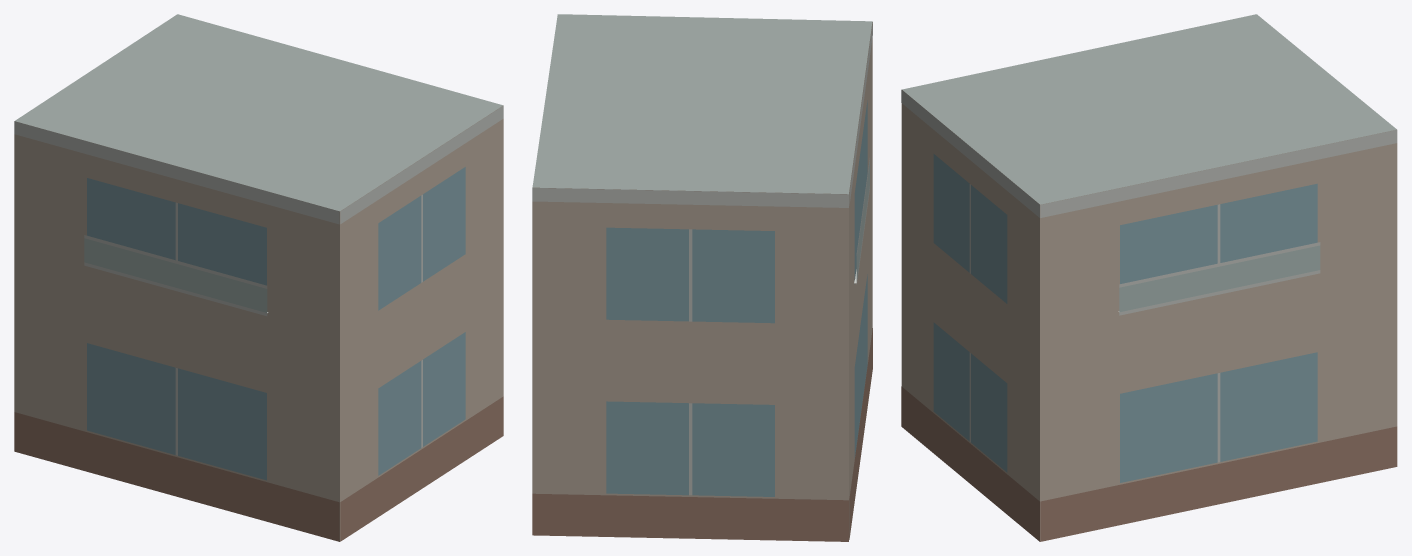
The model's file is survey-upis-32614794.glb.
3 renders of one model, left to right at view 1: azimuth 30°, elevation 25°; view 2: azimuth 150°, elevation 25°; view 3: azimuth 270°, elevation 25°, orthographic. The views are drawn at different scales.
Parts seen in each view (by area): view 1: survey-upis-32614794.tmp; view 2: survey-upis-32614794.tmp; view 3: survey-upis-32614794.tmp.
Boxes of the visible parts, x1,y1,x2,y2 form: survey-upis-32614794.tmp: (14,14,503,541); survey-upis-32614794.tmp: (532,14,872,541); survey-upis-32614794.tmp: (901,14,1397,541).
Size of the model in its own units: 7.41 by 6.1 by 8.14.
